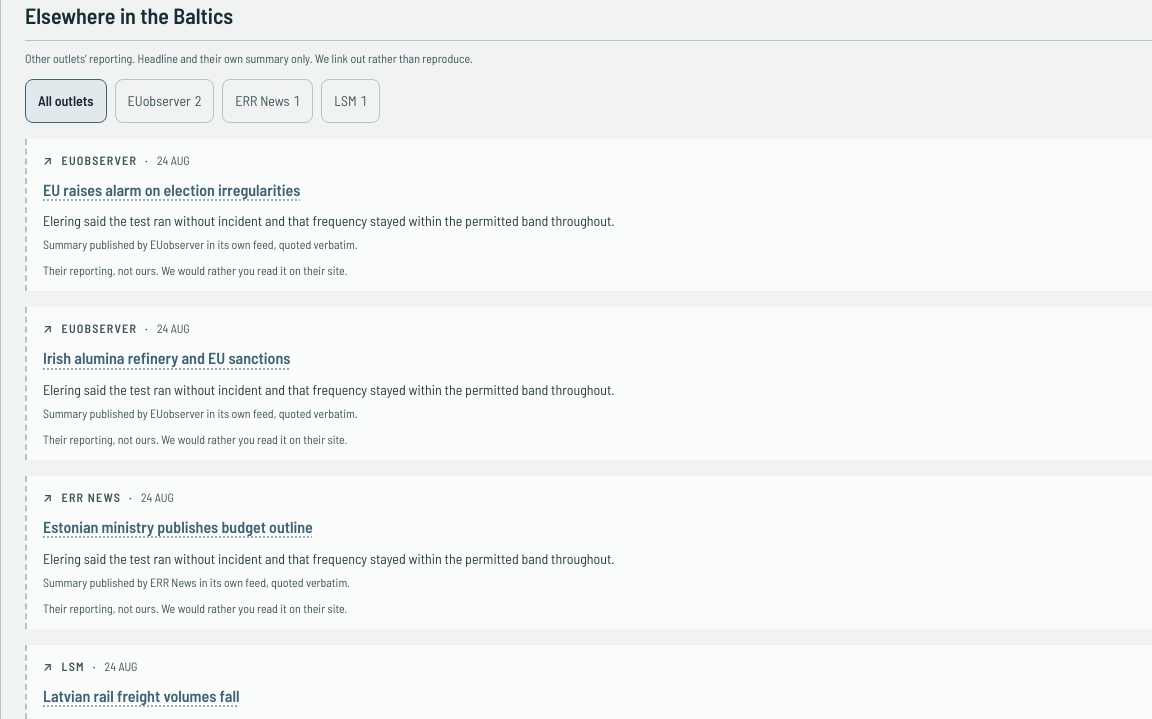
Elsewhere rail: outlet filter › shows only the chosen outlet
Click the button with aria-label "ERR News, 1 story" at (268, 101), box [222, 79, 313, 123]
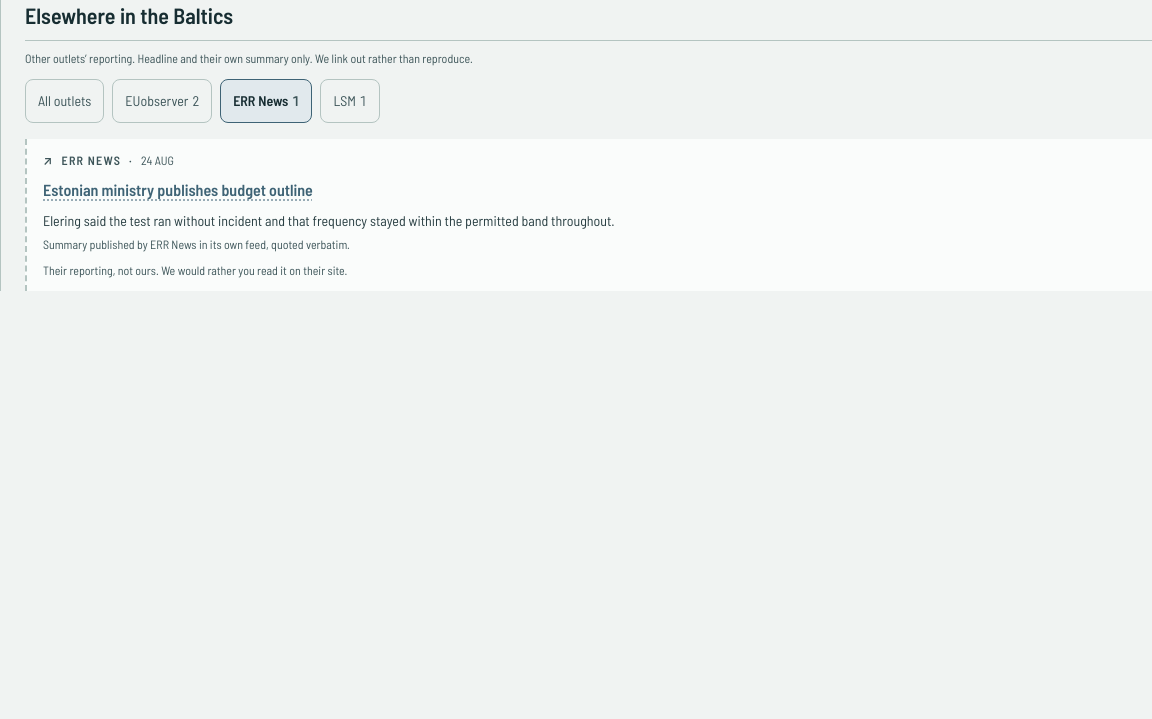
Expected: the link "Estonian ministry publishes budget outline" is shown, [43, 180, 313, 199]
Now the link "EU raises alarm on election irregularities" is gone
Now the link "Latvian rail freight volumes fall" is gone
